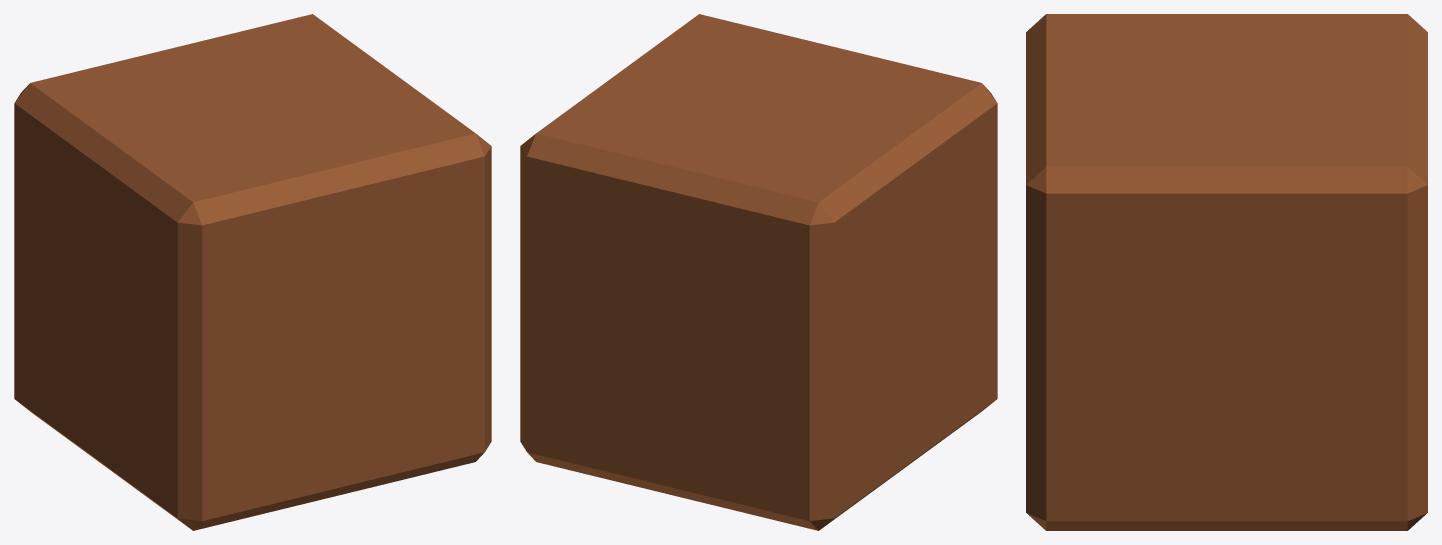
Rendered from cubeAnimTest.glb.
3 views of the same model, side by side, from view 1: azimuth 30°, elevation 25°; view 2: azimuth 150°, elevation 25°; view 3: azimuth 270°, elevation 25° (orthographic). The views are drawn at different scales.
Parts seen in each view (by area): view 1: obj_idle; view 2: obj_idle; view 3: obj_idle.
Boxes of the visible parts, <box> form: obj_idle: <box>14,14,491,530</box>; obj_idle: <box>520,14,997,530</box>; obj_idle: <box>1026,14,1427,530</box>.
Size of what is drawn, in the model's own units: 4 by 4 by 4.
